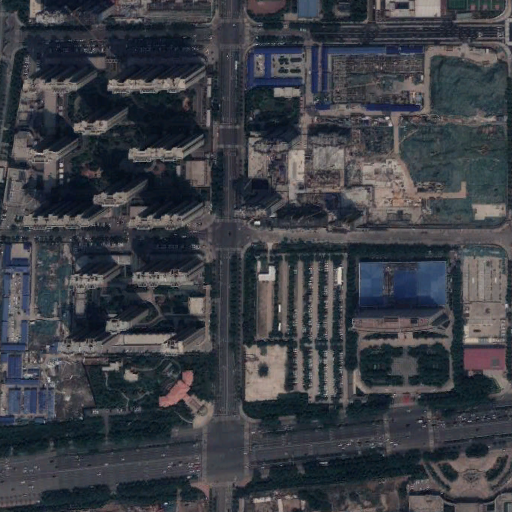cw: (398, 43, 510, 223), (27, 233, 76, 352)
